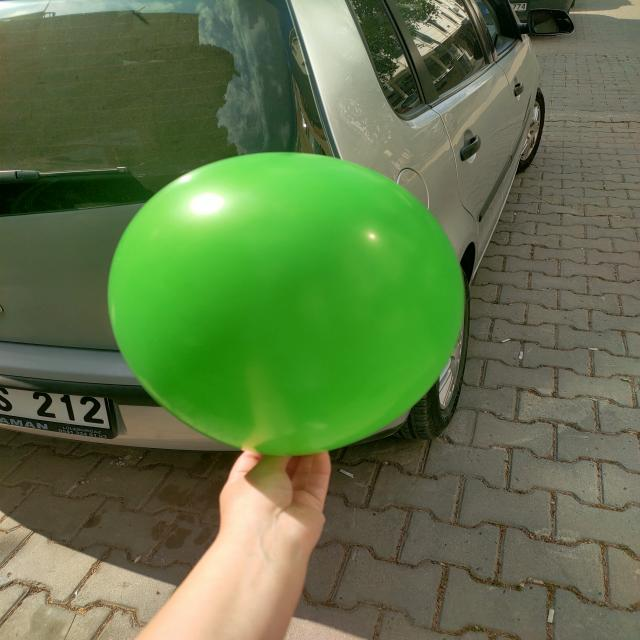green: (111, 152, 468, 458)
